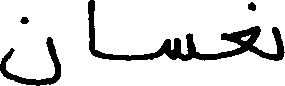ا: (86, 0, 96, 58)
س: (163, 31, 195, 61)
ع: (220, 24, 260, 58)
ن: (0, 14, 69, 83), (247, 2, 283, 61)
